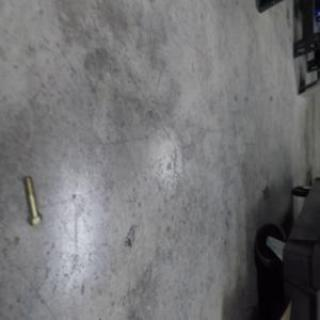Bolttrack_idkeyframe: (22, 172, 42, 224)
